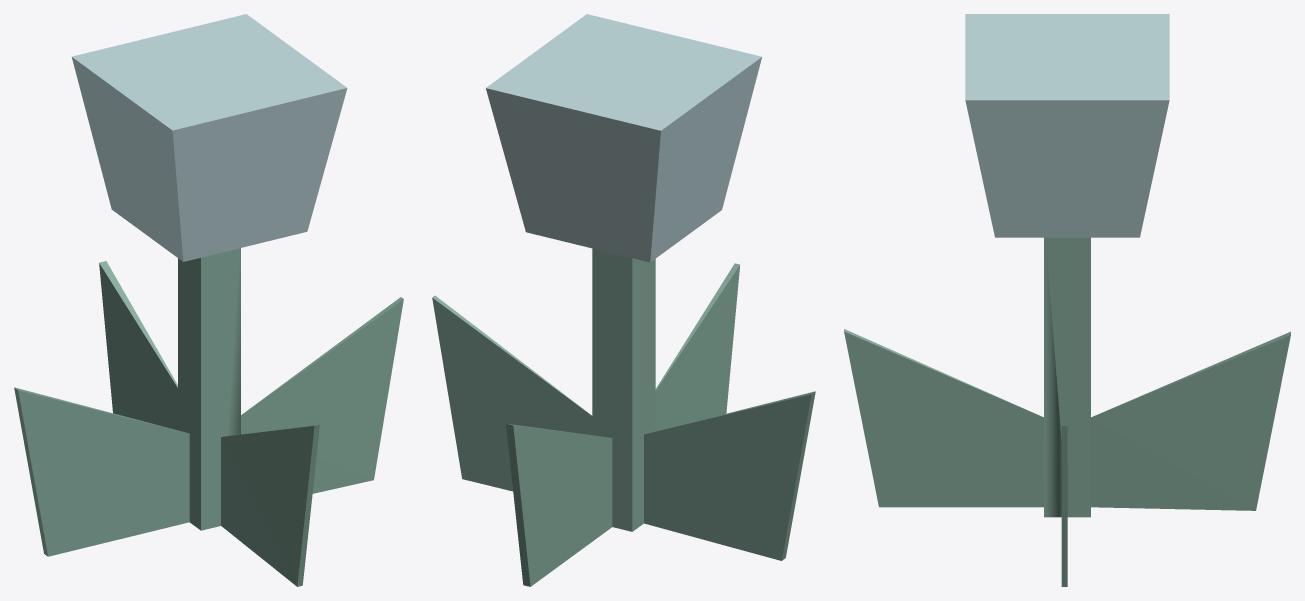
Rendered from Nature Flower 3.fbx.
3 renders of one model, left to right at view 1: azimuth 30°, elevation 25°; view 2: azimuth 150°, elevation 25°; view 3: azimuth 270°, elevation 25°, orthographic.
Parts seen in each view (by area): view 1: Nature Flower 3; view 2: Nature Flower 3; view 3: Nature Flower 3.
Boxes of the visible parts, <box> form: Nature Flower 3: <box>14,14,403,586</box>; Nature Flower 3: <box>432,14,815,586</box>; Nature Flower 3: <box>844,14,1290,586</box>.
Bounding box in the file's own units: 48.6 × 54 × 48.59.
